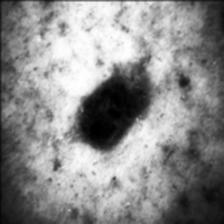Potentially Malignant Skin Tumors: (78, 70, 136, 160)
